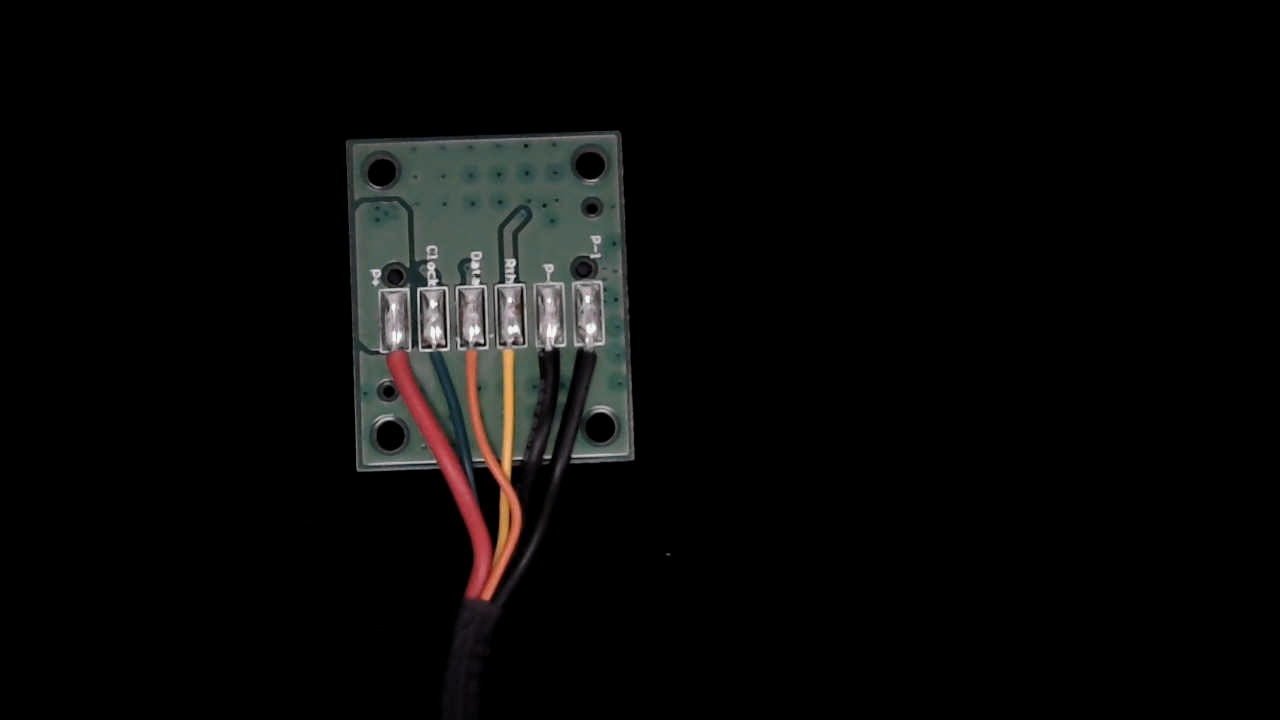Black: (536, 328, 564, 393)
Black1: (575, 327, 605, 387)
Green: (418, 330, 447, 395)
Orange: (457, 329, 484, 393)
Red: (380, 332, 414, 402)
Yellow: (496, 329, 527, 392)
